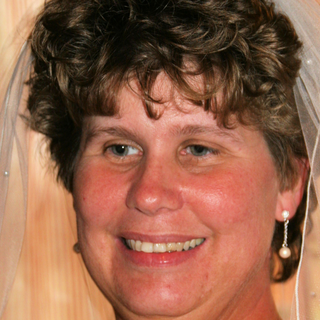eye: (172, 134, 227, 167), (93, 134, 149, 164)
